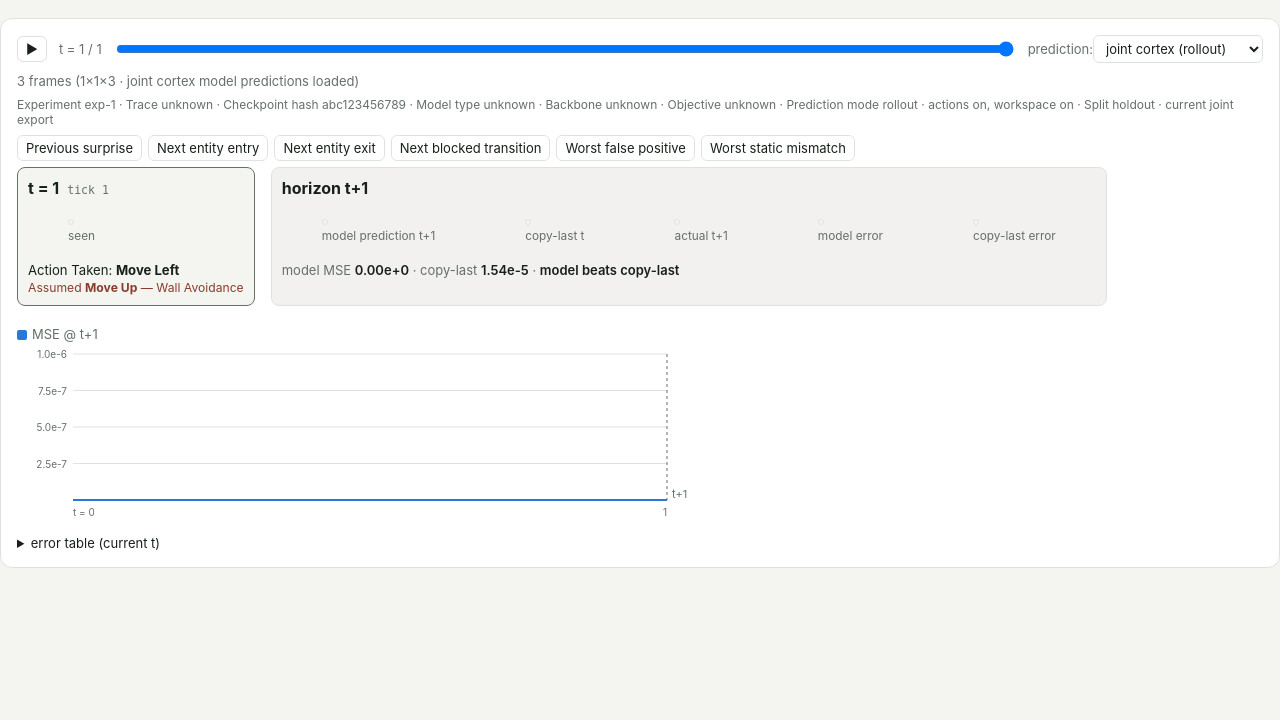
Test: PixelHorizonViewer › pairs the leading seen-frame cell with the action taken at the current tick, and updates it as the tick moves
The image size is (1280, 720).
Check: the heading "t = 1 tick 1" is shown, box [28,178,109,198]
Check: the text "move left" is shown, box [116,262,179,278]
Set the slider named "start frame" to "0": (124, 49) [116,41,1014,57]
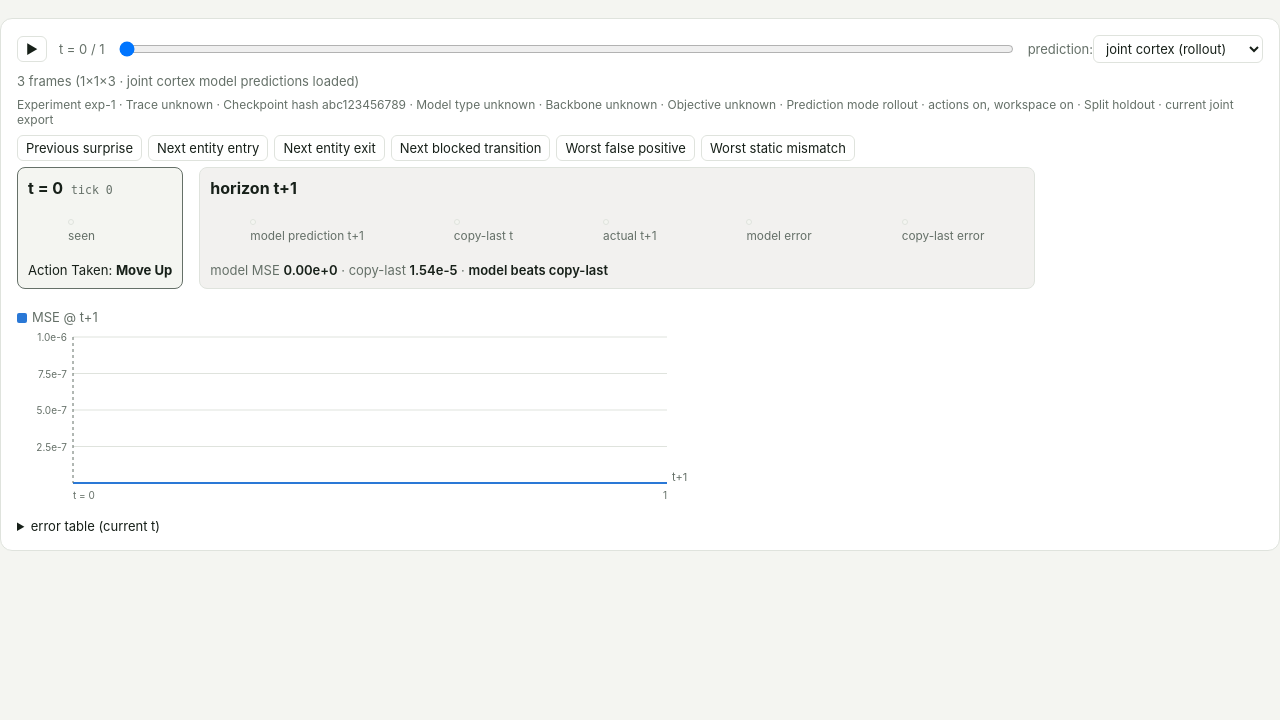
Check: the heading "t = 0 tick 0" is shown, box [28,178,113,198]
Check: the text "move up" is shown, box [116,262,172,278]
Check: the text "assumed" is gone
